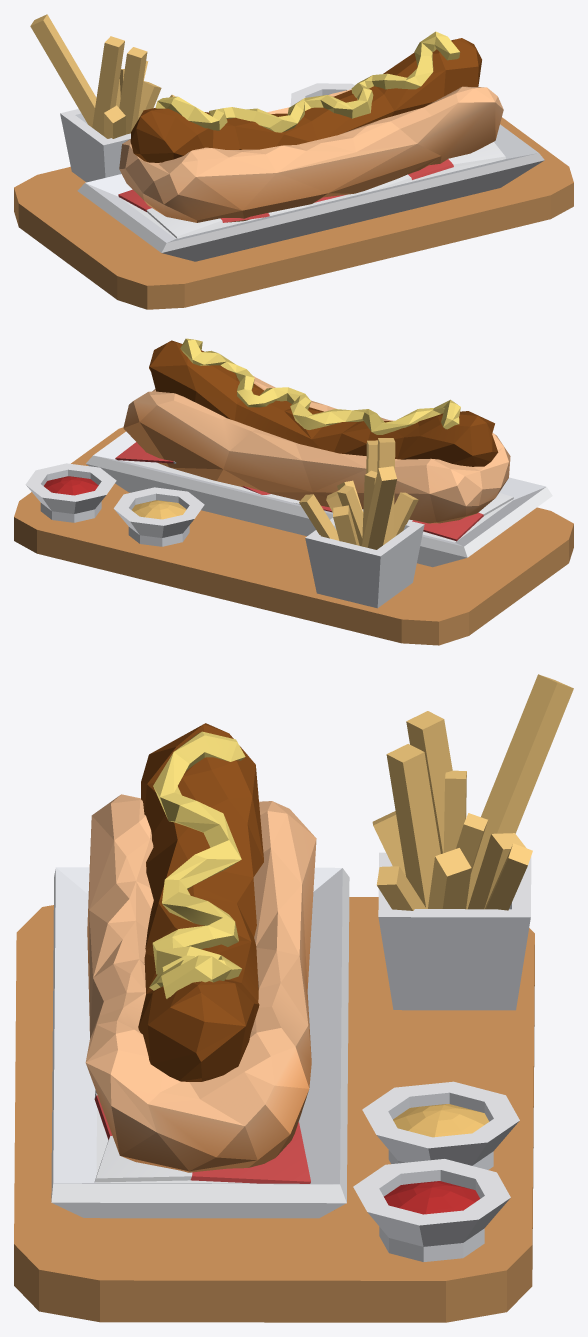
Rendered from Hot_Dog.glb.
3 renders of one model, top to bottom at view 1: azimuth 30°, elevation 25°; view 2: azimuth 150°, elevation 25°; view 3: azimuth 270°, elevation 25°, orthographic. The views are drawn at different scales.
Parts seen in each view (by area): view 1: HotDog_Plate; view 2: HotDog_Plate; view 3: HotDog_Plate.
Part boxes in pixels (left/top/right/bottom): HotDog_Plate: left=14, top=14, right=573, bottom=309; HotDog_Plate: left=14, top=338, right=573, bottom=645; HotDog_Plate: left=14, top=674, right=573, bottom=1322.
Size of the model in its own units: 0.3763 by 0.1402 by 0.2316.
Materials: 1 (1 with a texture image).
